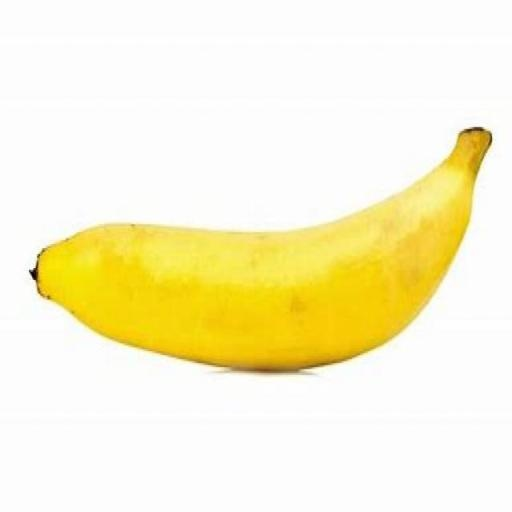fruit: (32, 128, 491, 370)
